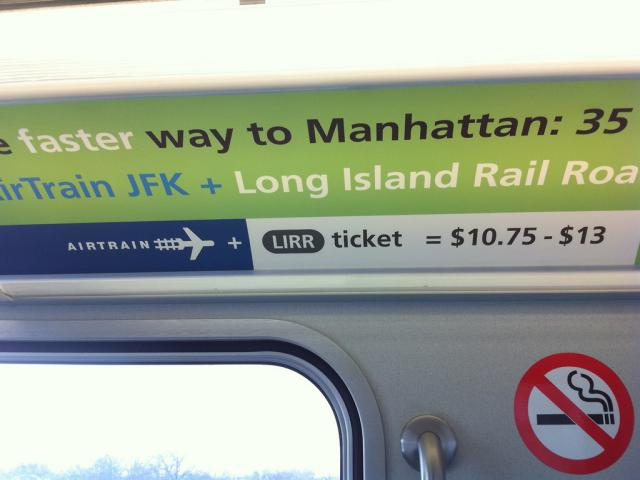Door-handle: (400, 414, 460, 480)
